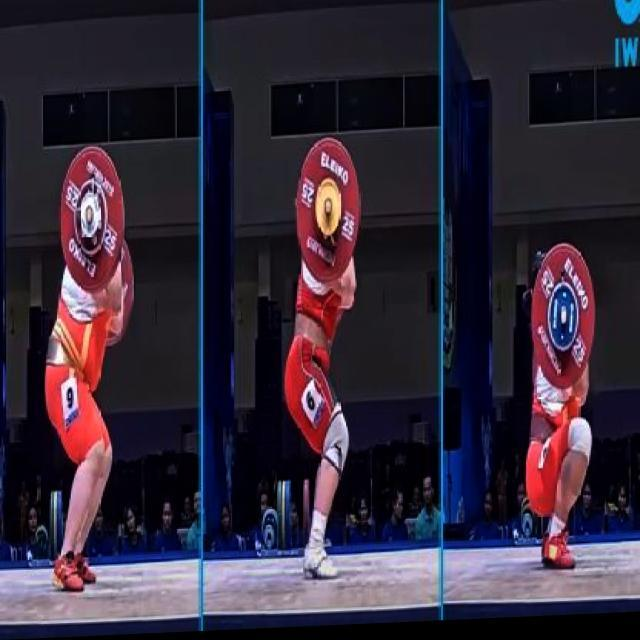barbell: (527, 237, 601, 399), (55, 140, 128, 301), (294, 136, 363, 293)
